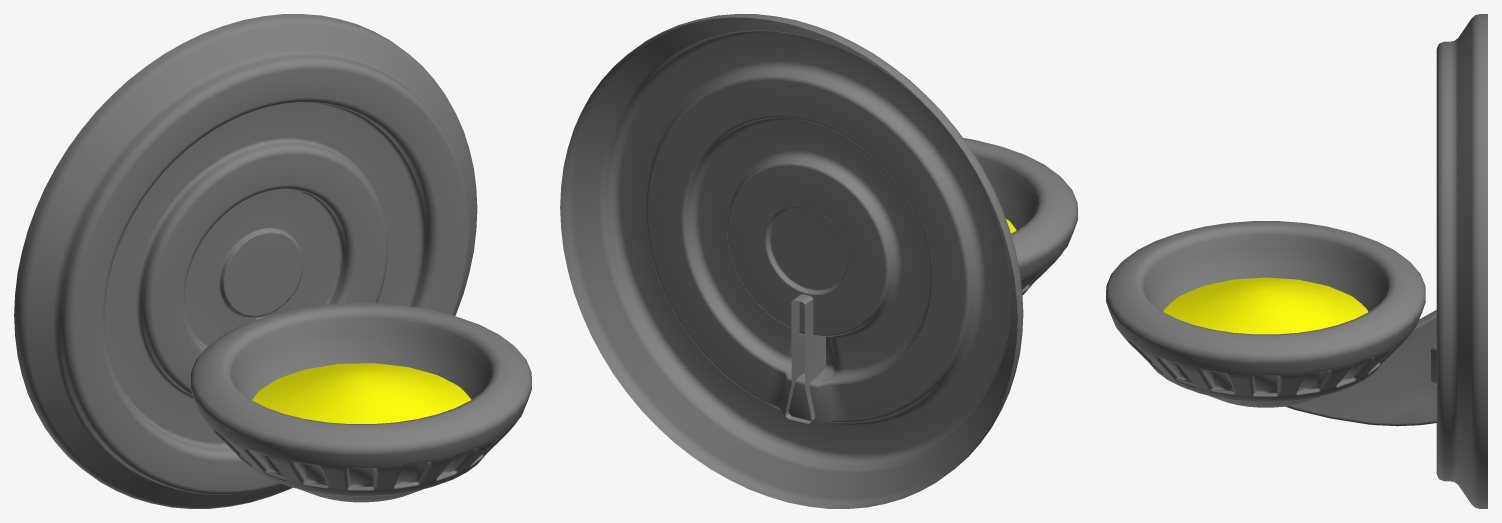
3 renders of one model, left to right at view 1: azimuth 30°, elevation 25°; view 2: azimuth 150°, elevation 25°; view 3: azimuth 270°, elevation 25°, orthographic. The views are drawn at different scales.
Visible parts, largest first — view 1: torchback_low, torchbowl_low, torchkindling_low; view 2: torchback_low, torchbowl_low, torchconn_low; view 3: torchbowl_low, torchback_low, torchkindling_low, torchconn_low.
Boxes of the visible parts, x1,y1,x2,y2 form: torchback_low: (14,14,477,508); torchbowl_low: (190,303,531,502); torchkindling_low: (252,363,471,423); torchback_low: (560,14,1023,508); torchbowl_low: (963,138,1077,294); torchconn_low: (785,294,825,423); torchbowl_low: (1106,221,1425,407); torchback_low: (1431,14,1487,508); torchkindling_low: (1163,277,1368,334); torchconn_low: (1285,310,1436,426).
Bounding box in the file's own units: 67.54 × 67.54 × 52.06.
